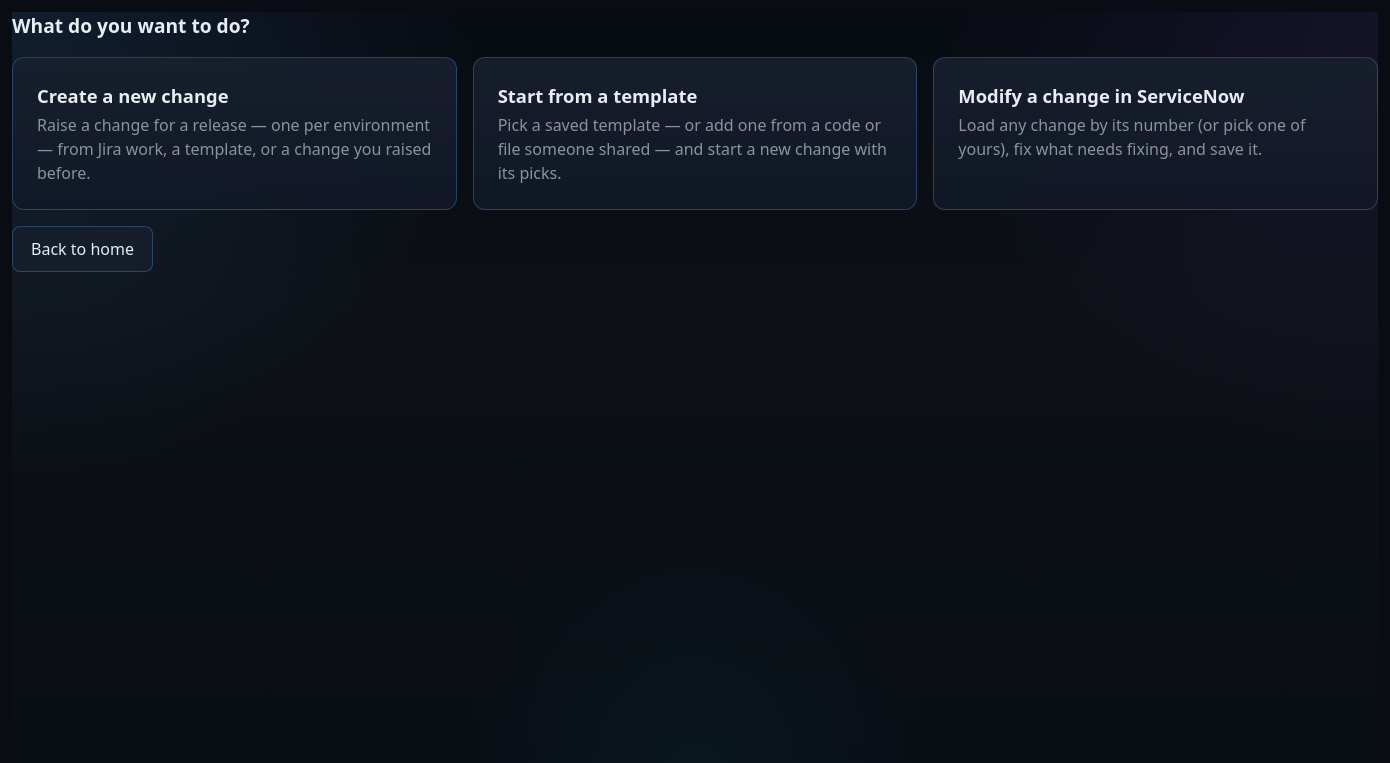
Test case: ChangeWizard — change an existing one › sends a closed change to Review instead of editing it
Click the button "Modify a change in ServiceNow" at [1156, 134], box [933,57,1378,210]
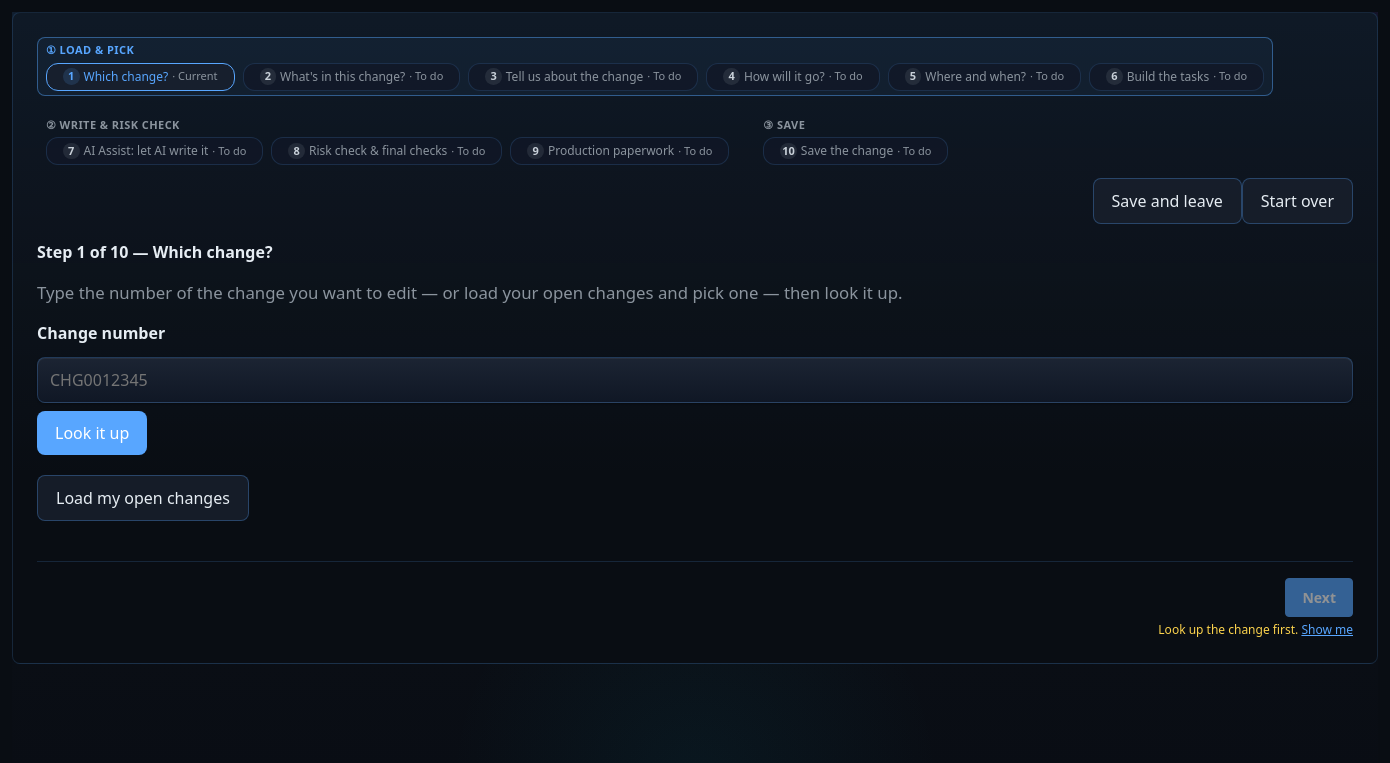
Type "CHG0009" into the field labelled "Change number" at [695, 380], box [37,357,1353,403]
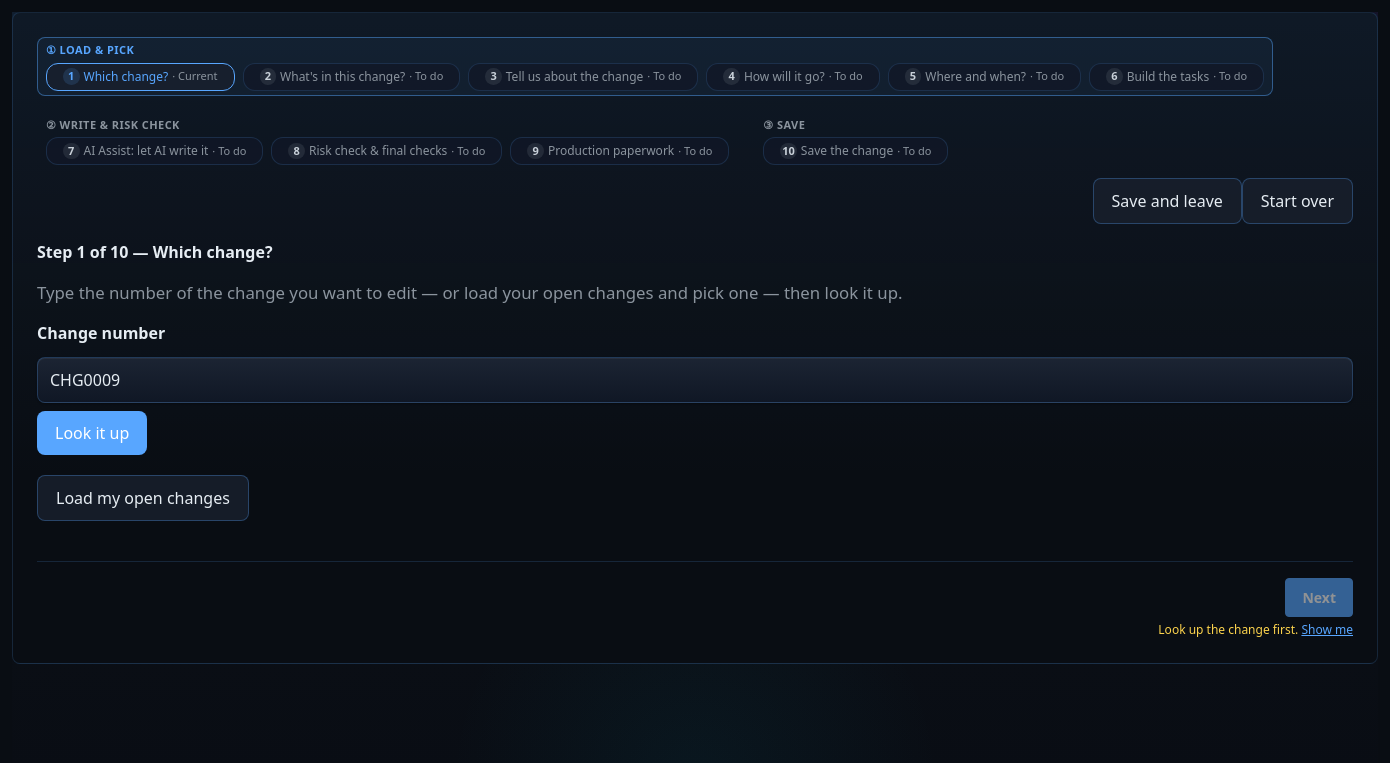
Click the button "Look it up" at [92, 433], box [37,411,147,455]
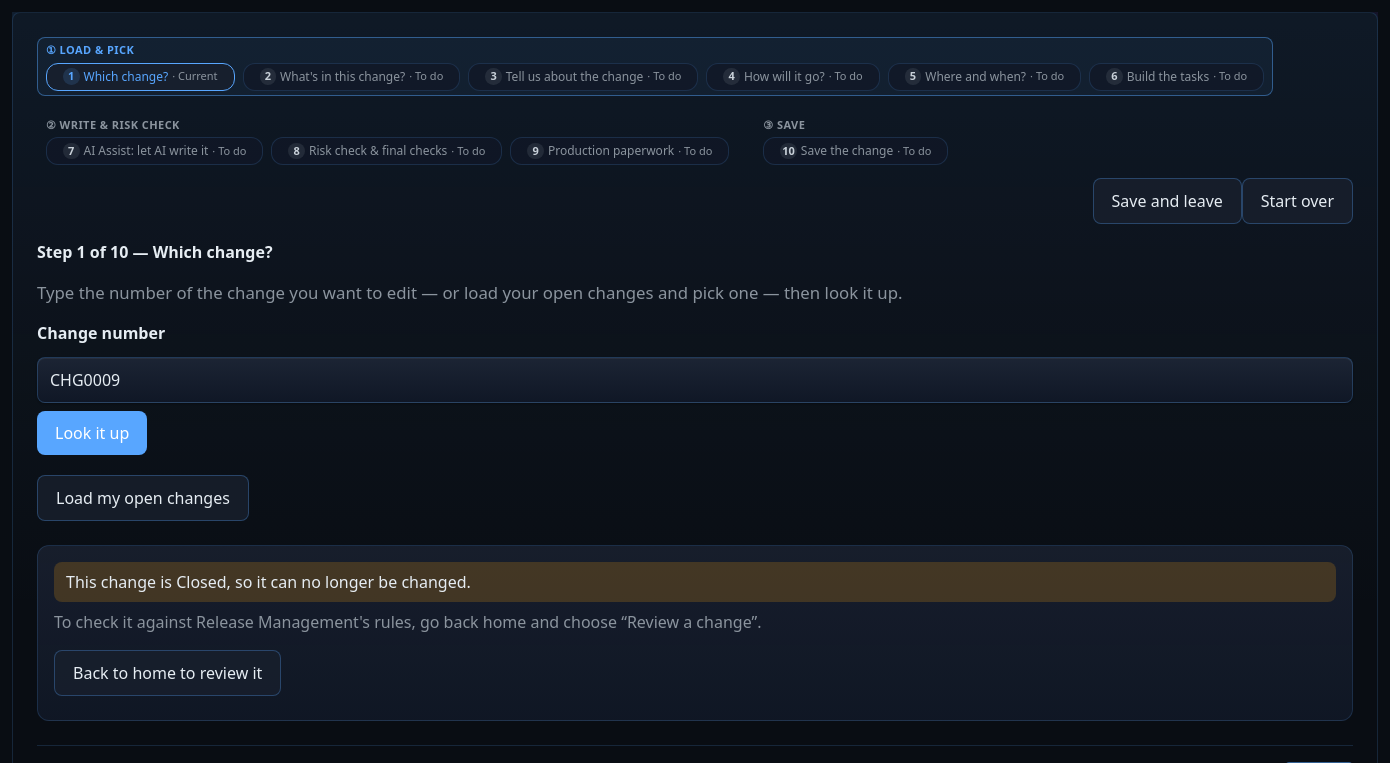
Now the text "This change is Closed, so it can no longer be changed." is shown, box [54,562,1336,602]
Now the button "Back to home to review it" is shown, box [54,650,281,696]
